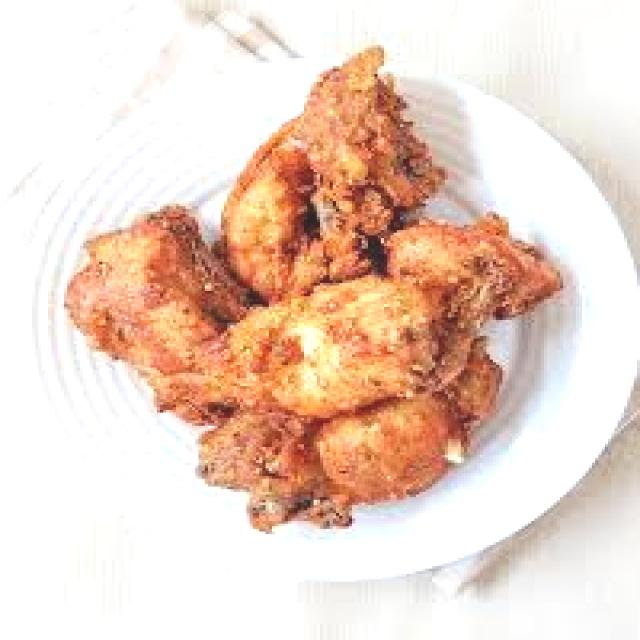ayam_goreng: (53, 45, 612, 549), (77, 195, 264, 409)
